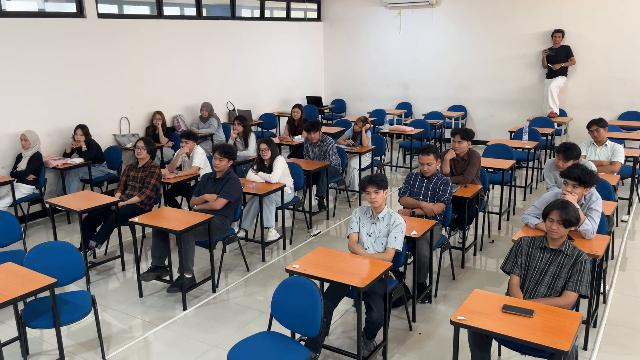bingung: (545, 216, 567, 239), (562, 178, 581, 196), (365, 190, 383, 207), (418, 158, 435, 176), (554, 153, 570, 170), (212, 153, 226, 171), (452, 138, 465, 153), (259, 144, 271, 159), (135, 143, 146, 158), (589, 128, 602, 140), (20, 133, 29, 149), (74, 131, 84, 143), (180, 138, 192, 148), (233, 121, 243, 132), (307, 131, 317, 142), (153, 115, 162, 126), (292, 109, 300, 120), (354, 122, 362, 131), (201, 108, 208, 117)
